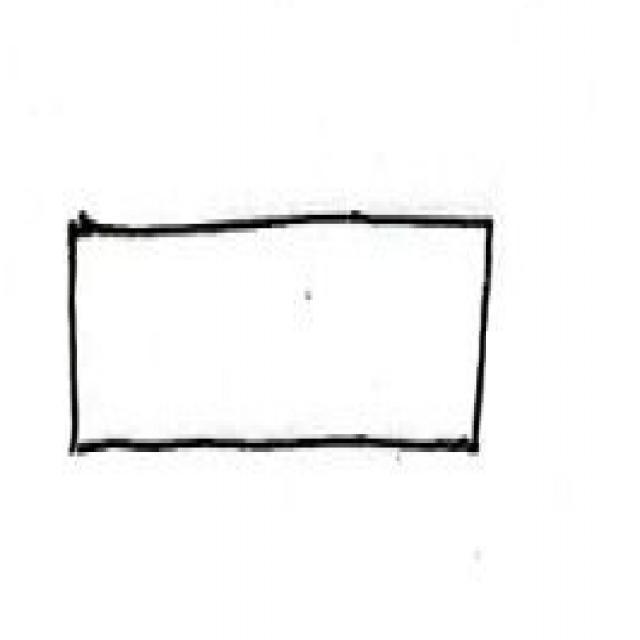textbox: (47, 174, 506, 507)
